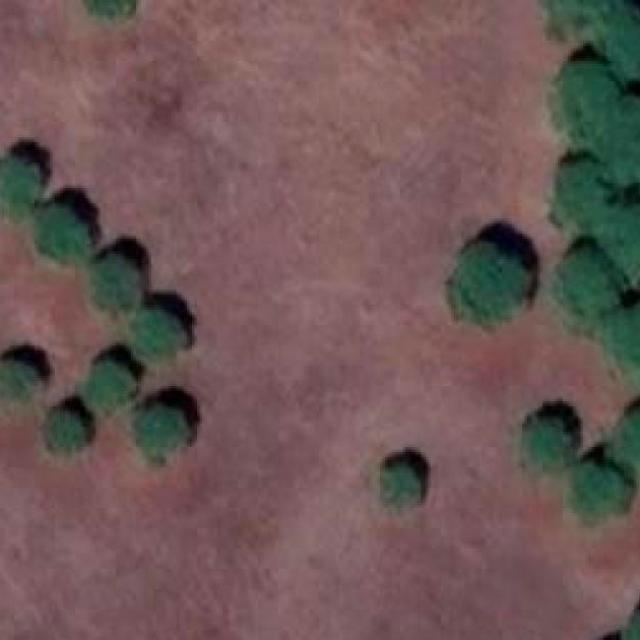Tree: (446, 242, 532, 326), (554, 244, 624, 330), (550, 59, 624, 140), (581, 93, 640, 182), (570, 462, 636, 526), (552, 158, 614, 226), (591, 203, 640, 285), (135, 402, 189, 466), (595, 0, 640, 76), (542, 0, 616, 41), (34, 208, 88, 264), (598, 303, 640, 374), (522, 416, 573, 471), (88, 257, 142, 308), (133, 310, 187, 360), (0, 154, 40, 213), (87, 360, 133, 410), (612, 400, 640, 474), (382, 465, 421, 511), (42, 408, 82, 447), (0, 361, 37, 396)
